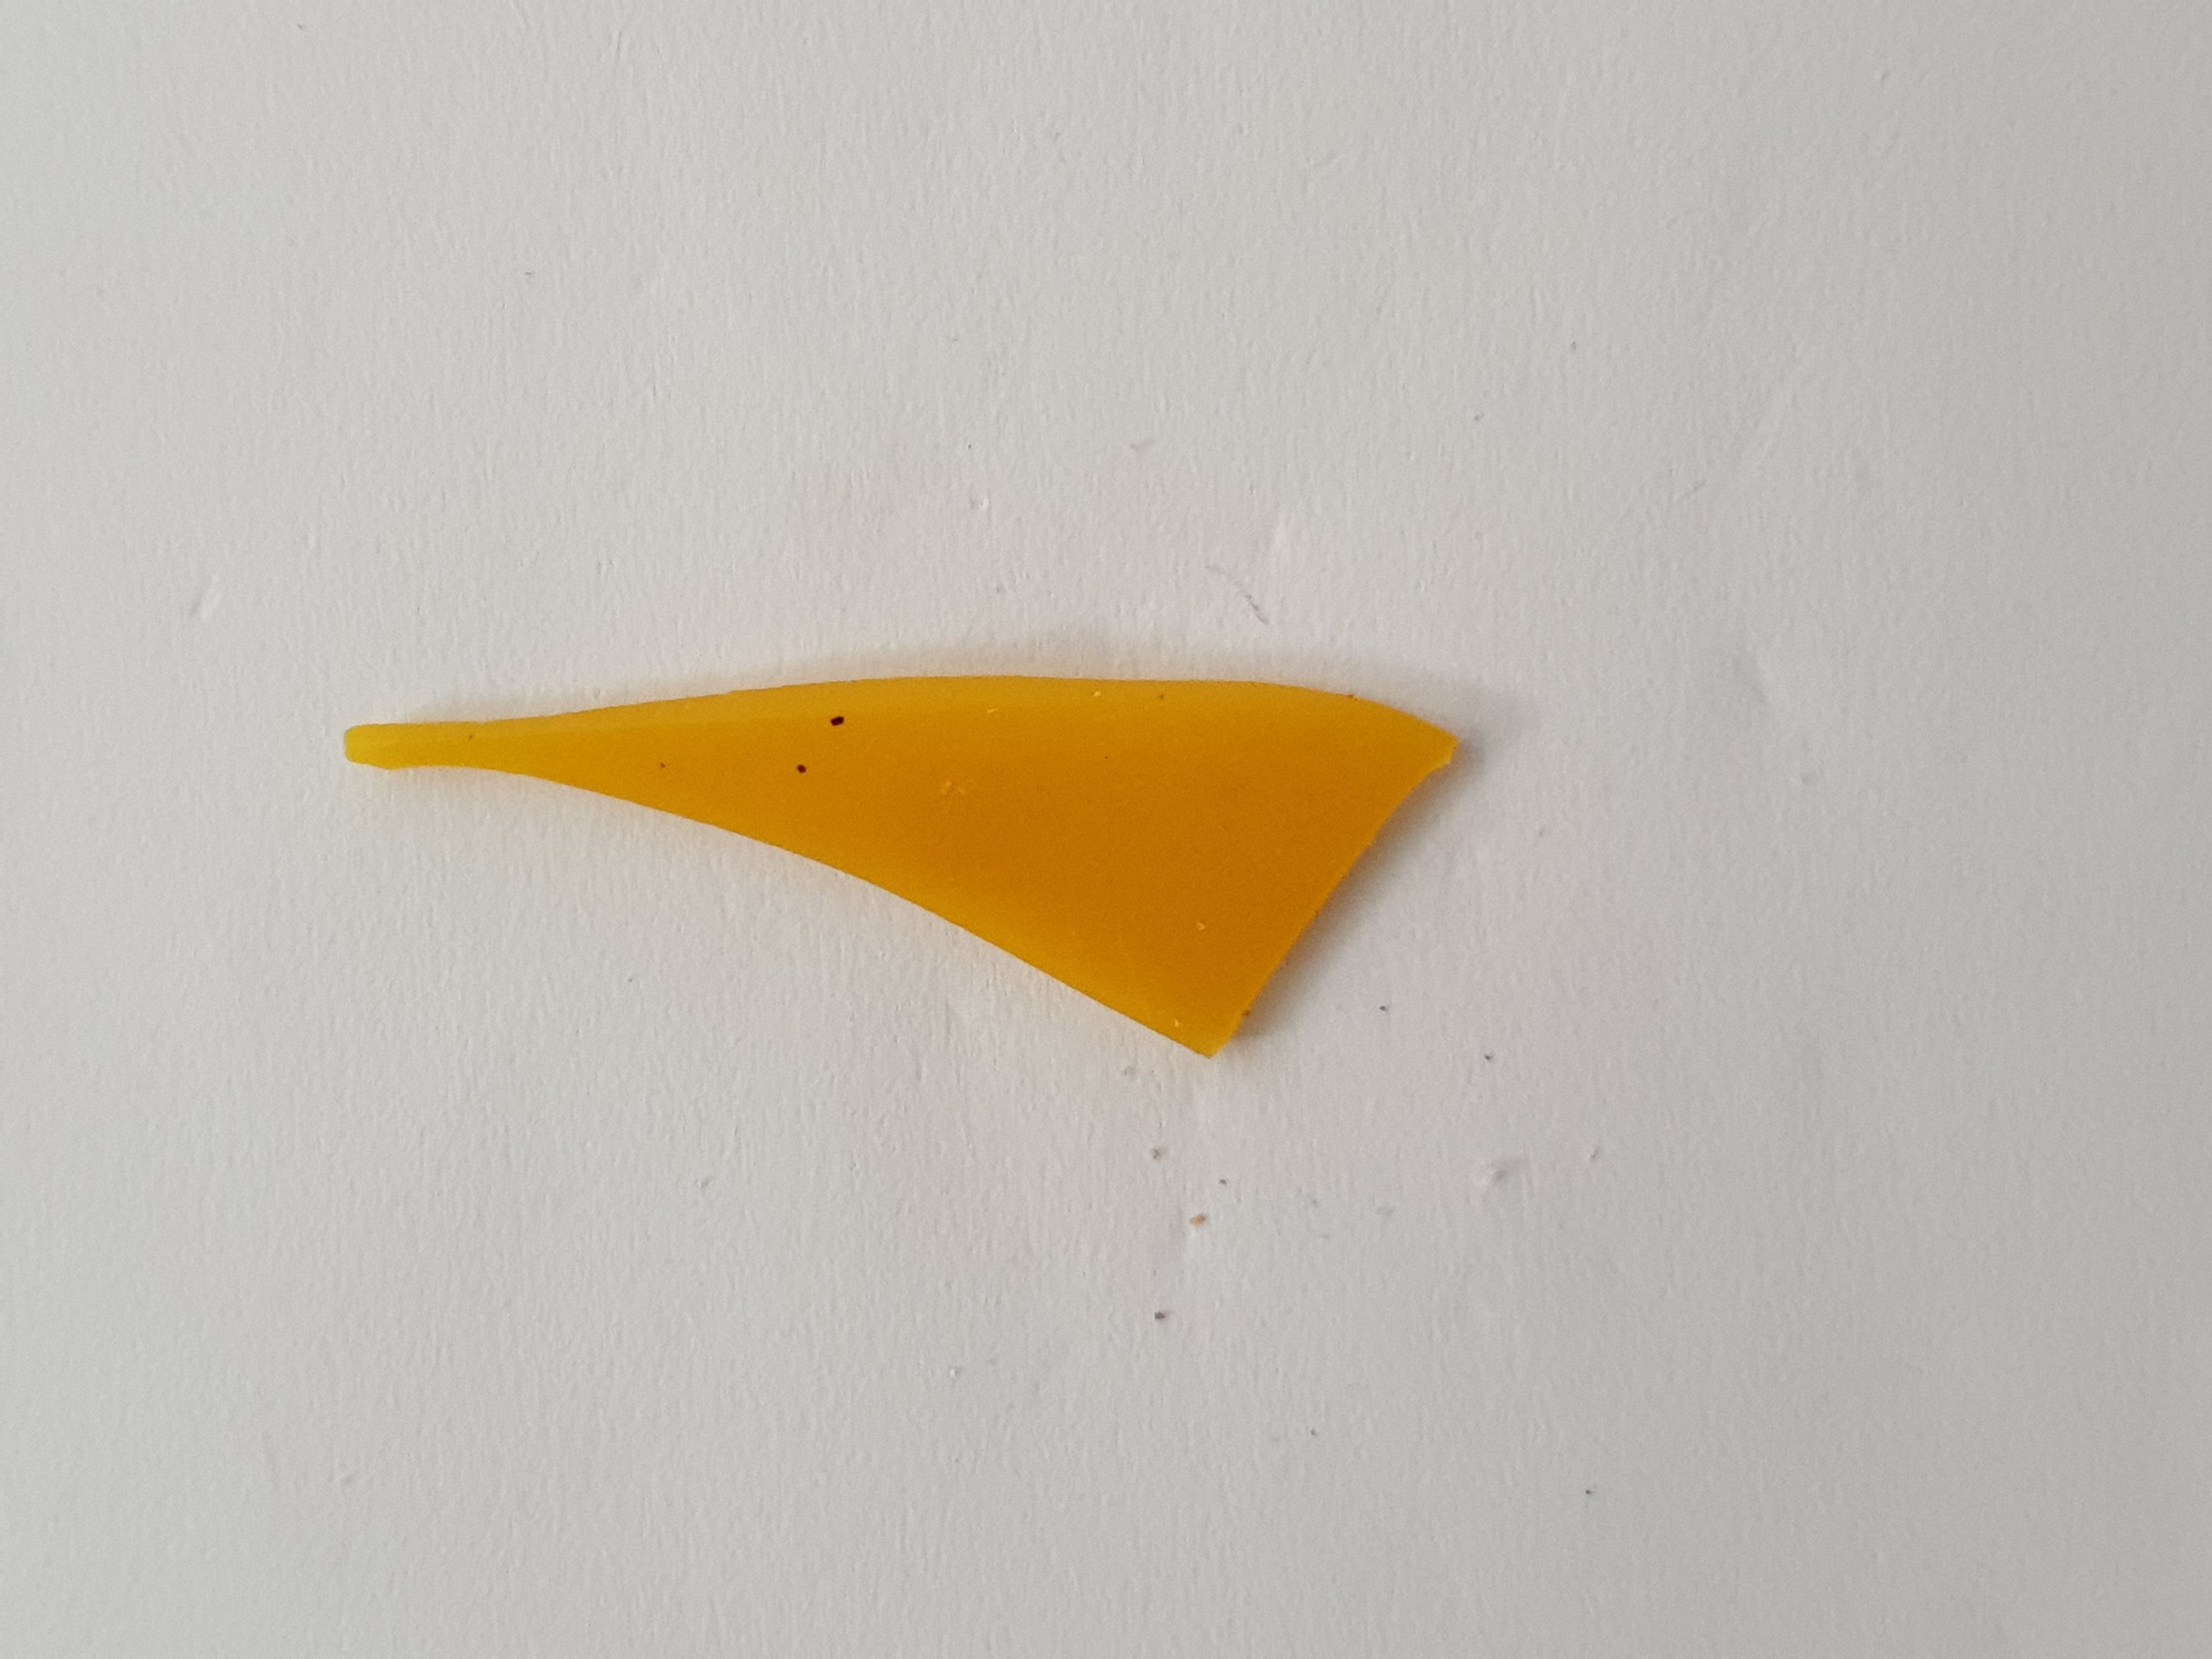plastic: (317, 664, 1482, 1084)
